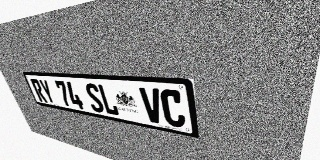4: (64, 81, 85, 110)
7: (54, 80, 74, 108)
C: (159, 89, 186, 129)
L: (97, 84, 120, 116)
R: (30, 79, 48, 103)
S: (83, 83, 106, 114)
V: (139, 87, 165, 125)
Y: (38, 79, 57, 104)
